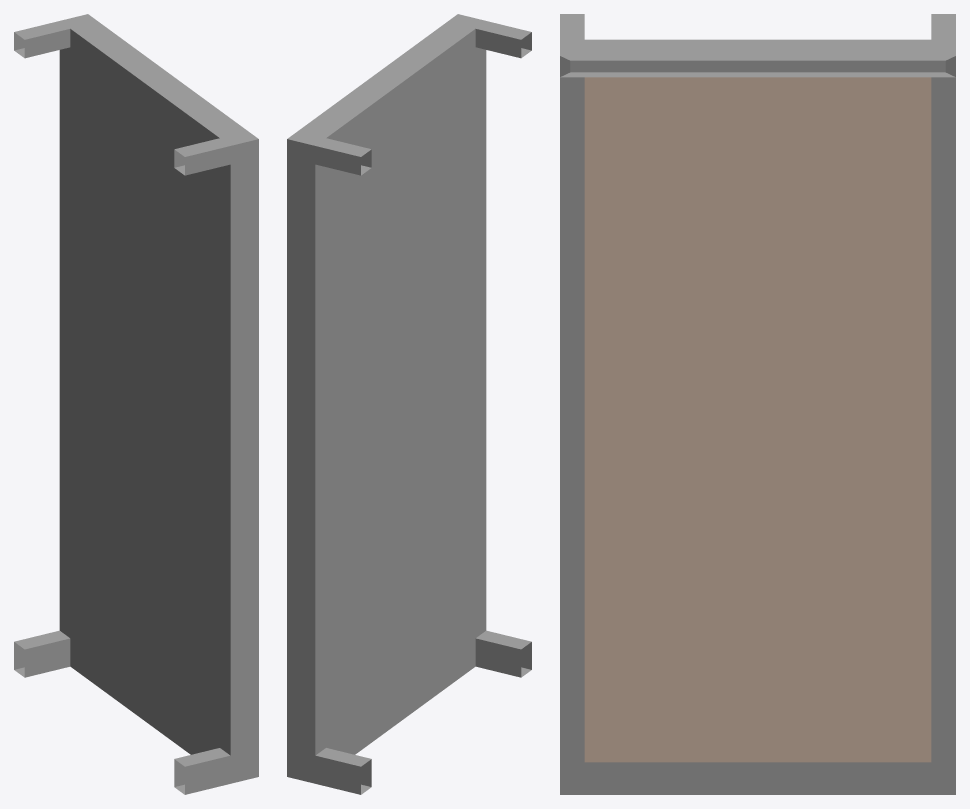
The model's file is entrop_wall_sign_1x1_01_LOD1.fbx.
3 renders of one model, left to right at view 1: azimuth 30°, elevation 25°; view 2: azimuth 150°, elevation 25°; view 3: azimuth 270°, elevation 25°, orthographic. The views are drawn at different scales.
Visible parts, largest first — view 1: billboard01_LOD1; view 2: billboard01_LOD1; view 3: billboard01_LOD1.
Part boxes in pixels (x1,y1,x2,y2): billboard01_LOD1: (14, 14, 258, 794); billboard01_LOD1: (287, 14, 531, 794); billboard01_LOD1: (560, 14, 955, 794).
Size of the model in its own units: 0.25 by 2.06 by 1.
